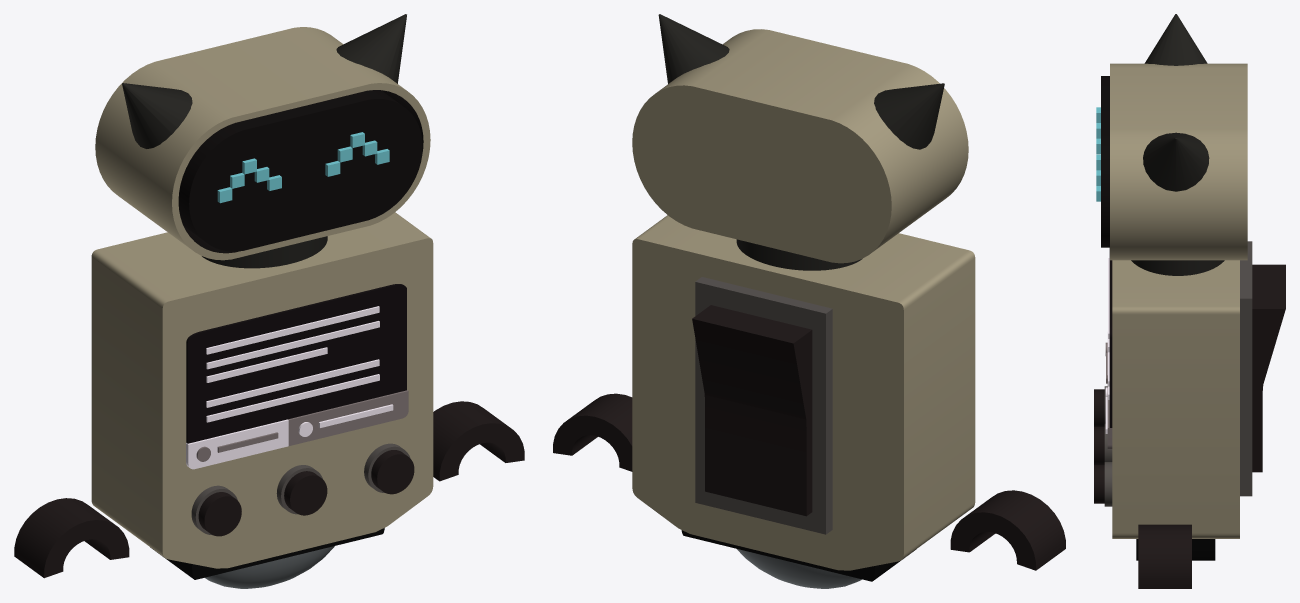
Rendered from robot.FBX.
3 renders of one model, left to right at view 1: azimuth 30°, elevation 25°; view 2: azimuth 150°, elevation 25°; view 3: azimuth 270°, elevation 25°, orthographic. The views are drawn at different scales.
Visible parts, largest first — view 1: Box011, Screenhead, headcover, Box013, Tube001, Tube002, Cone002, Box021, Cone001, Box020, Sphere001, Cylinder001 (+9 smaller); view 2: Box011, headcover, Box025, Box024, Tube001, Tube002, Cone002, Cone001, Sphere001, Cylinder001, Box012; view 3: Box011, headcover, Box025, Tube002, Box024, Cone001, Cone002, Screenhead, Cylinder001, Box013, Box012, Cylinder004 (+3 smaller).
Part boxes in pixels (x1,y1,x2,y2): Box011: (91,212,433,568); Screenhead: (178,90,422,251); headcover: (95,27,430,260); Box013: (186,284,406,443); Tube001: (14,498,129,578); Tube002: (433,401,524,481); Cone002: (122,83,192,148); Box021: (288,390,408,445); Cone001: (336,14,406,83); Box020: (186,419,288,469); Sphere001: (205,546,334,588); Cylinder001: (202,236,327,268); Box011: (632,215,975,570); headcover: (632,29,968,263); Box025: (692,305,812,516); Box024: (695,277,832,534); Tube001: (950,490,1065,570); Tube002: (553,393,632,471); Cone002: (874,83,944,149); Cone001: (658,14,729,83); Sphere001: (736,548,861,588); Cylinder001: (736,239,861,270); Box012: (681,530,916,581); Box011: (1112,260,1239,538); headcover: (1110,63,1247,260); Box025: (1252,264,1285,472); Tube002: (1138,524,1191,588); Box024: (1240,241,1252,496); Cone001: (1143,132,1209,191); Cone002: (1144,14,1207,65); Screenhead: (1101,76,1109,247); Cylinder001: (1131,260,1224,275); Box013: (1109,248,1112,427); Box012: (1136,539,1215,560); Cylinder004: (1094,465,1104,503).
Size of the model in its own units: 65.86 by 70.02 by 25.33.
